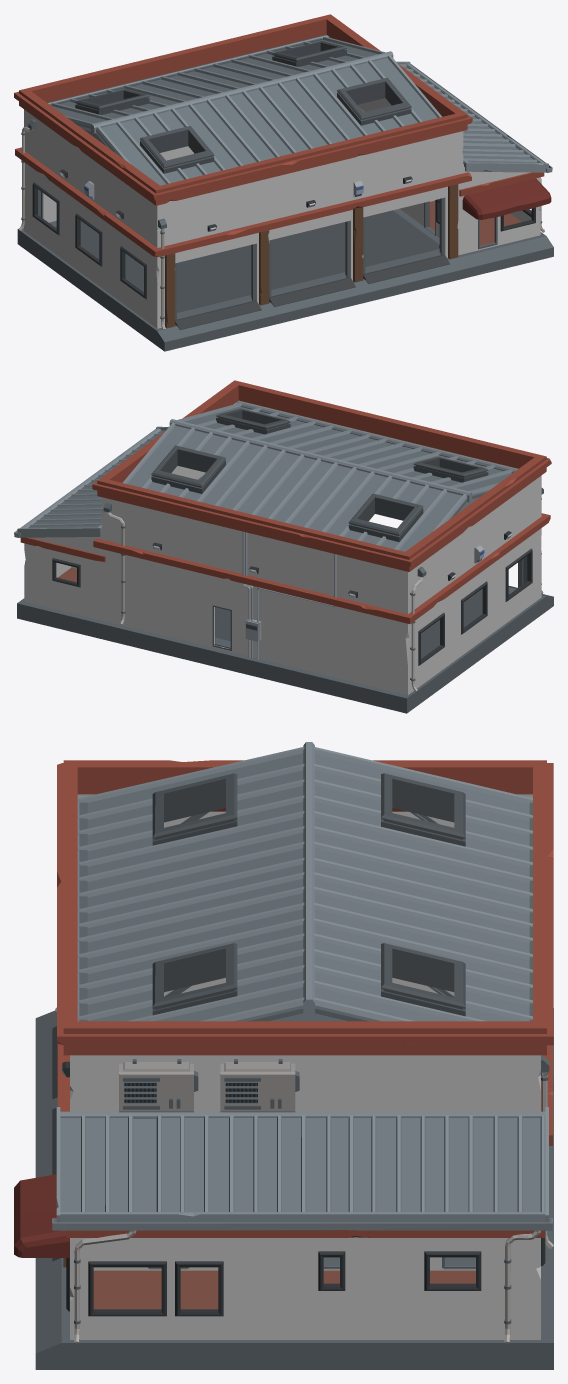
File: SM_Bld_RepairShop_Large_01.fbx
The picture shows the model from 3 angles, top to bottom: view 1: azimuth 30°, elevation 25°; view 2: azimuth 150°, elevation 25°; view 3: azimuth 270°, elevation 25°; orthographic projection. The views are drawn at different scales.
Visible parts, largest first — view 1: SM_Bld_RepairShop_Large_01; view 2: SM_Bld_RepairShop_Large_01; view 3: SM_Bld_RepairShop_Large_01.
Part boxes in pixels (left/top/right/bottom): SM_Bld_RepairShop_Large_01: left=14, top=14, right=553, bottom=351; SM_Bld_RepairShop_Large_01: left=14, top=380, right=553, bottom=713; SM_Bld_RepairShop_Large_01: left=14, top=742, right=553, bottom=1369.
Bounding box in the file's own units: 2383 × 965 × 1589.
